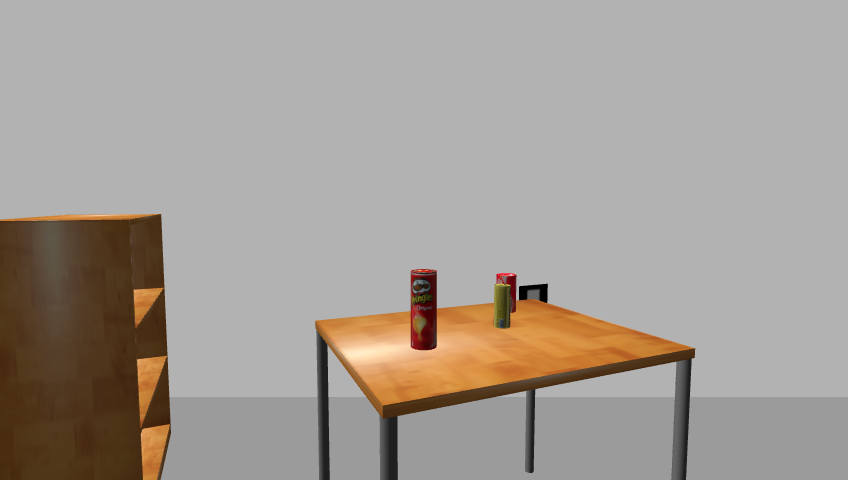aruco marker: (515, 283, 551, 308)
biscuits pack: (494, 283, 511, 329)
bookshelf: (0, 214, 176, 479)
coke can: (494, 272, 518, 314)
dinner table: (307, 297, 705, 479)
pringles can: (408, 269, 440, 352)
